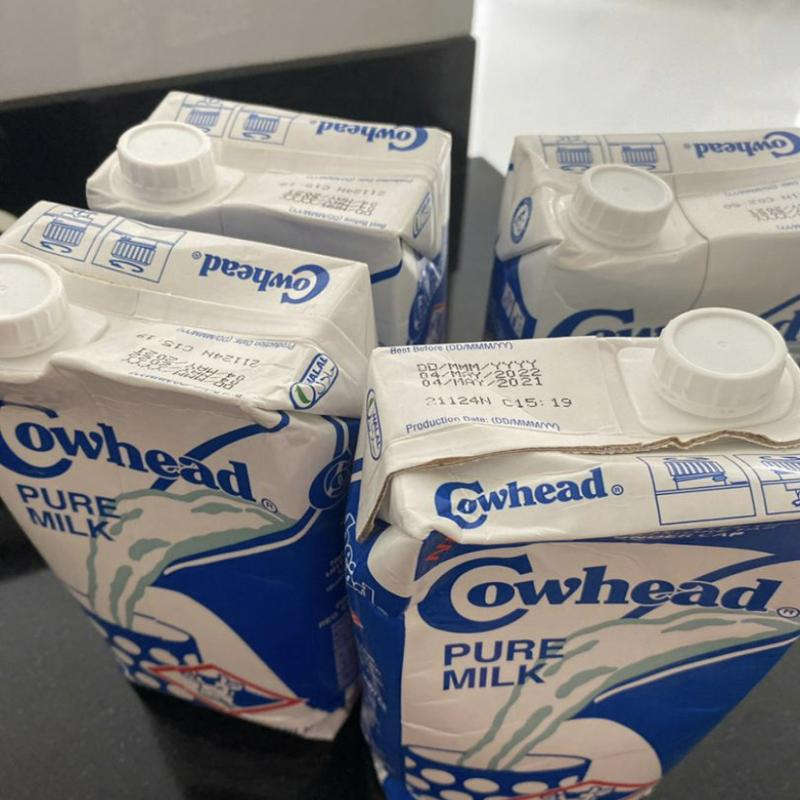uht carton: (344, 312, 800, 800), (0, 202, 378, 773), (84, 91, 453, 348), (482, 127, 800, 341)
